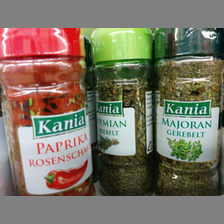spices: (1, 28, 94, 195), (154, 28, 222, 195), (90, 28, 156, 194)
